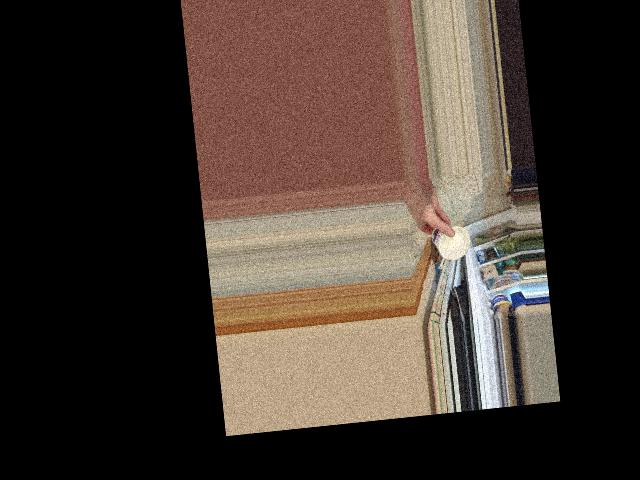cotage: (428, 222, 472, 264)
